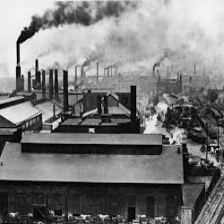smoke: (13, 2, 223, 69)
